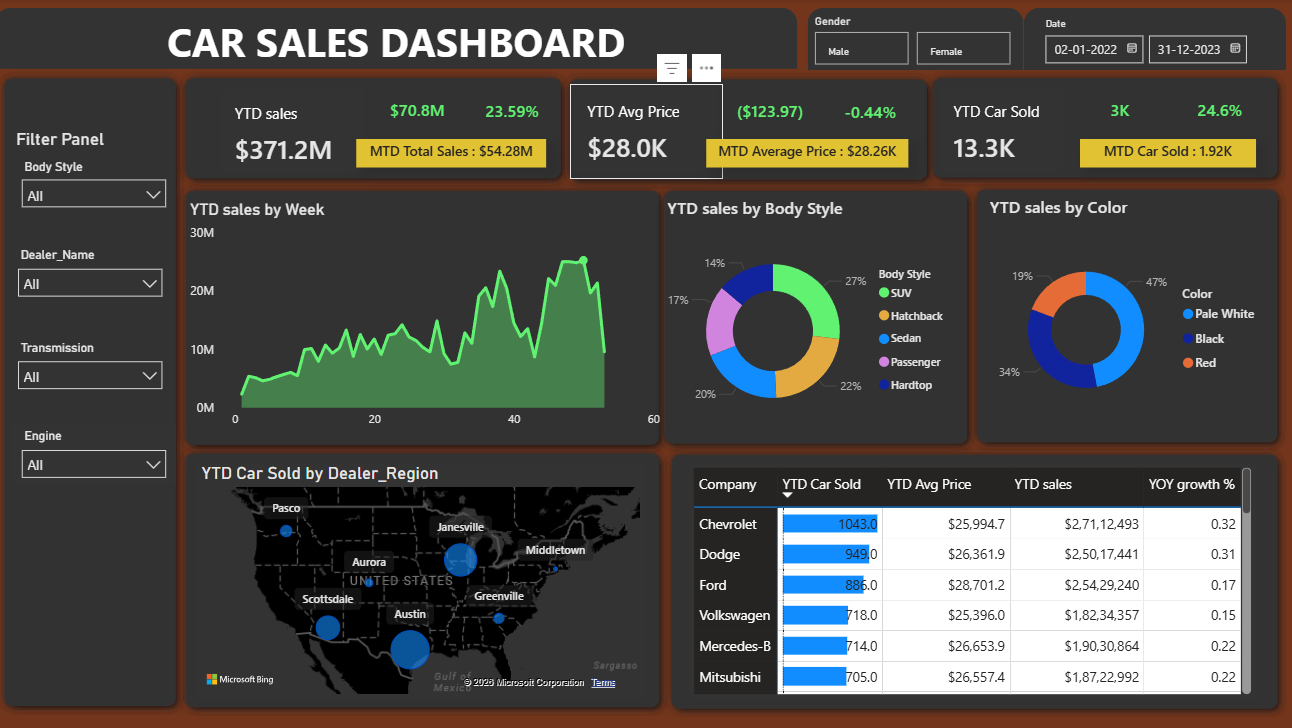

The dashboard page shown, as its layout file describes it:
{"tool":"powerbi","page":{"name":"Page 1","canvas":[1280,720],"ordinal":0},"visuals":[{"type":"shape","box":[647.4,178.8,315.7,266.4],"z":0,"group":"g1"},{"type":"shape","box":[0,8.6,787.7,60.1],"z":0},{"type":"donutChart","fields":{"Y":["car_data.YTD sales"],"Category":["car_data.Body Style"]},"box":[655,193.2,289.2,242.9],"z":1000,"group":"g1"},{"type":"shape","box":[954.5,177.6,313.2,266.4],"z":1000},{"type":"donutChart","fields":{"Y":["car_data.YTD sales"],"Category":["car_data.Color"]},"box":[971.7,192.4,278.7,242.9],"z":2000},{"type":"shape","box":[177.6,178.8,483.4,267.6],"z":3000},{"type":"lineChart","title":"YTD sales by Week","fields":{"Category":["Calendar.Week"],"Y":["car_data.Total sales"]},"box":[186.2,197.3,474.8,231.8],"z":5000},{"type":"shape","box":[177.9,68.7,386.5,116.6],"z":6000},{"type":"cardVisual","fields":{"Data":["car_data.YTD sales"]},"box":[217.9,84.9,150,92],"z":7000},{"type":"card","fields":{"Values":["car_data.diference YTD and PYTD"]},"box":[367.8,86.3,93.4,50.9],"z":8000},{"type":"card","fields":{"Values":["Calendar.YOY growth %"]},"box":[461.2,86.3,93.4,52.3],"z":9000},{"type":"card","fields":{"Values":["car_data.MTD KPI"]},"box":[355.1,137.2,186.7,28.3],"z":10000},{"type":"shape","box":[554.6,69.9,369.3,116.6],"z":11000},{"type":"shape","box":[911.3,69.1,356.4,115.9],"z":12000},{"type":"cardVisual","fields":{"Data":["car_data.YTD Average Price"]},"box":[564.8,83.9,149.2,92.5],"z":13000},{"type":"card","fields":{"Values":["Calendar.Diff bet avg Price and last avg price"]},"box":[714,87.6,93.7,50.6],"z":14000},{"type":"group","id":"g1","title":"Group 3","box":[647.4,178.8,315.7,266.4],"z":15000},{"type":"card","fields":{"Values":["car_data.YOY growth Avg Price%"]},"box":[814.7,87.1,89.6,51.5],"z":16000},{"type":"card","fields":{"Values":["car_data.MTD Average Price KPI"]},"box":[698,136.9,198.5,28.4],"z":17000},{"type":"cardVisual","fields":{"Data":["car_data.YTD Car Sold"]},"box":[923.6,83.9,130.7,92.5],"z":18000},{"type":"card","fields":{"Values":["car_data.Total Quantity Diff"]},"box":[1058,86.3,93.7,50.6],"z":19000},{"type":"card","fields":{"Values":["car_data.YOY growth quantity %"]},"box":[1166.6,86.3,71.5,50.6],"z":20000},{"type":"card","fields":{"Values":["car_data.MTD Quantity KPT"]},"box":[1065.4,136.9,172.6,28.4],"z":21000},{"type":"shape","box":[177.6,436.5,483.4,267.6],"z":22000},{"type":"map","fields":{"Category":["car_data.Dealer_Region"],"Size":["car_data.YTD Car Sold"]},"box":[197.3,455,441.5,231.8],"z":23000},{"type":"shape","box":[654.8,437.8,612.9,267.6],"z":24000},{"type":"pivotTable","fields":{"Rows":["car_data.Company"],"Values":["car_data.YTD Car Sold","car_data.YTD Avg Price","car_data.YTD sales","Calendar.YOY growth %"]},"box":[680.7,455,557.4,231.8],"z":25000},{"type":"shape","box":[0,68.7,186.5,634.4],"z":26000},{"type":"shape","box":[1009.8,8.6,257.7,61.4],"z":27000},{"type":"shape","box":[797.6,8.6,212.3,61.4],"z":27001},{"type":"slicer","fields":{"Values":["Calendar.Date"]},"box":[1018.4,13.5,231.9,58.9],"z":27002},{"type":"advancedSlicerVisual","fields":{"Values":["car_data.Gender"]},"box":[800,14.7,202.5,55.2],"z":27003},{"type":"slicer","title":"Filter Panel","fields":{"Values":["car_data.Body Style"]},"box":[16,127.6,162,78.5],"z":27004},{"type":"slicer","fields":{"Values":["car_data.Dealer_Name"]},"box":[12.3,239.3,162,58.9],"z":27005},{"type":"slicer","fields":{"Values":["car_data.Transmission"]},"box":[12.3,330.1,162,58.9],"z":27006},{"type":"slicer","fields":{"Values":["car_data.Engine"]},"box":[16,417.2,162,58.9],"z":27007}]}

Visuals, with their boxes in screenshot pixels (x1, y1, x2, y2), scaled from the page's 1280x720 canvas onto the 1292x728 screenshot:
shape: box=[653, 181, 972, 450]
shape: box=[0, 9, 795, 69]
donutChart - car_data.YTD sales x car_data.Body Style: box=[661, 195, 953, 441]
shape: box=[963, 180, 1280, 449]
donutChart - car_data.YTD sales x car_data.Color: box=[981, 195, 1262, 440]
shape: box=[179, 181, 667, 451]
"YTD sales by Week" lineChart: box=[188, 199, 667, 434]
shape: box=[180, 69, 570, 187]
cardVisual - car_data.YTD sales: box=[220, 86, 371, 179]
card - car_data.diference YTD and PYTD: box=[371, 87, 466, 139]
card - Calendar.YOY growth %: box=[466, 87, 560, 140]
card - car_data.MTD KPI: box=[358, 139, 547, 167]
shape: box=[560, 71, 933, 189]
shape: box=[920, 70, 1280, 187]
cardVisual - car_data.YTD Average Price: box=[570, 85, 721, 178]
card - Calendar.Diff bet avg Price and last avg price: box=[721, 89, 815, 140]
"Group 3" group: box=[653, 181, 972, 450]
card - car_data.YOY growth Avg Price%: box=[822, 88, 913, 140]
card - car_data.MTD Average Price KPI: box=[705, 138, 905, 167]
cardVisual - car_data.YTD Car Sold: box=[932, 85, 1064, 178]
card - car_data.Total Quantity Diff: box=[1068, 87, 1162, 138]
card - car_data.YOY growth quantity %: box=[1178, 87, 1250, 138]
card - car_data.MTD Quantity KPT: box=[1075, 138, 1250, 167]
shape: box=[179, 441, 667, 712]
map - car_data.Dealer_Region x car_data.YTD Car Sold: box=[199, 460, 645, 694]
shape: box=[661, 443, 1280, 713]
pivotTable - car_data.Company x car_data.YTD Car Sold: box=[687, 460, 1250, 694]
shape: box=[0, 69, 188, 711]
shape: box=[1019, 9, 1279, 71]
shape: box=[805, 9, 1019, 71]
slicer - Calendar.Date: box=[1028, 14, 1262, 73]
advancedSlicerVisual - car_data.Gender: box=[807, 15, 1012, 71]
"Filter Panel" slicer: box=[16, 129, 180, 208]
slicer - car_data.Dealer_Name: box=[12, 242, 176, 302]
slicer - car_data.Transmission: box=[12, 334, 176, 393]
slicer - car_data.Engine: box=[16, 422, 180, 481]
